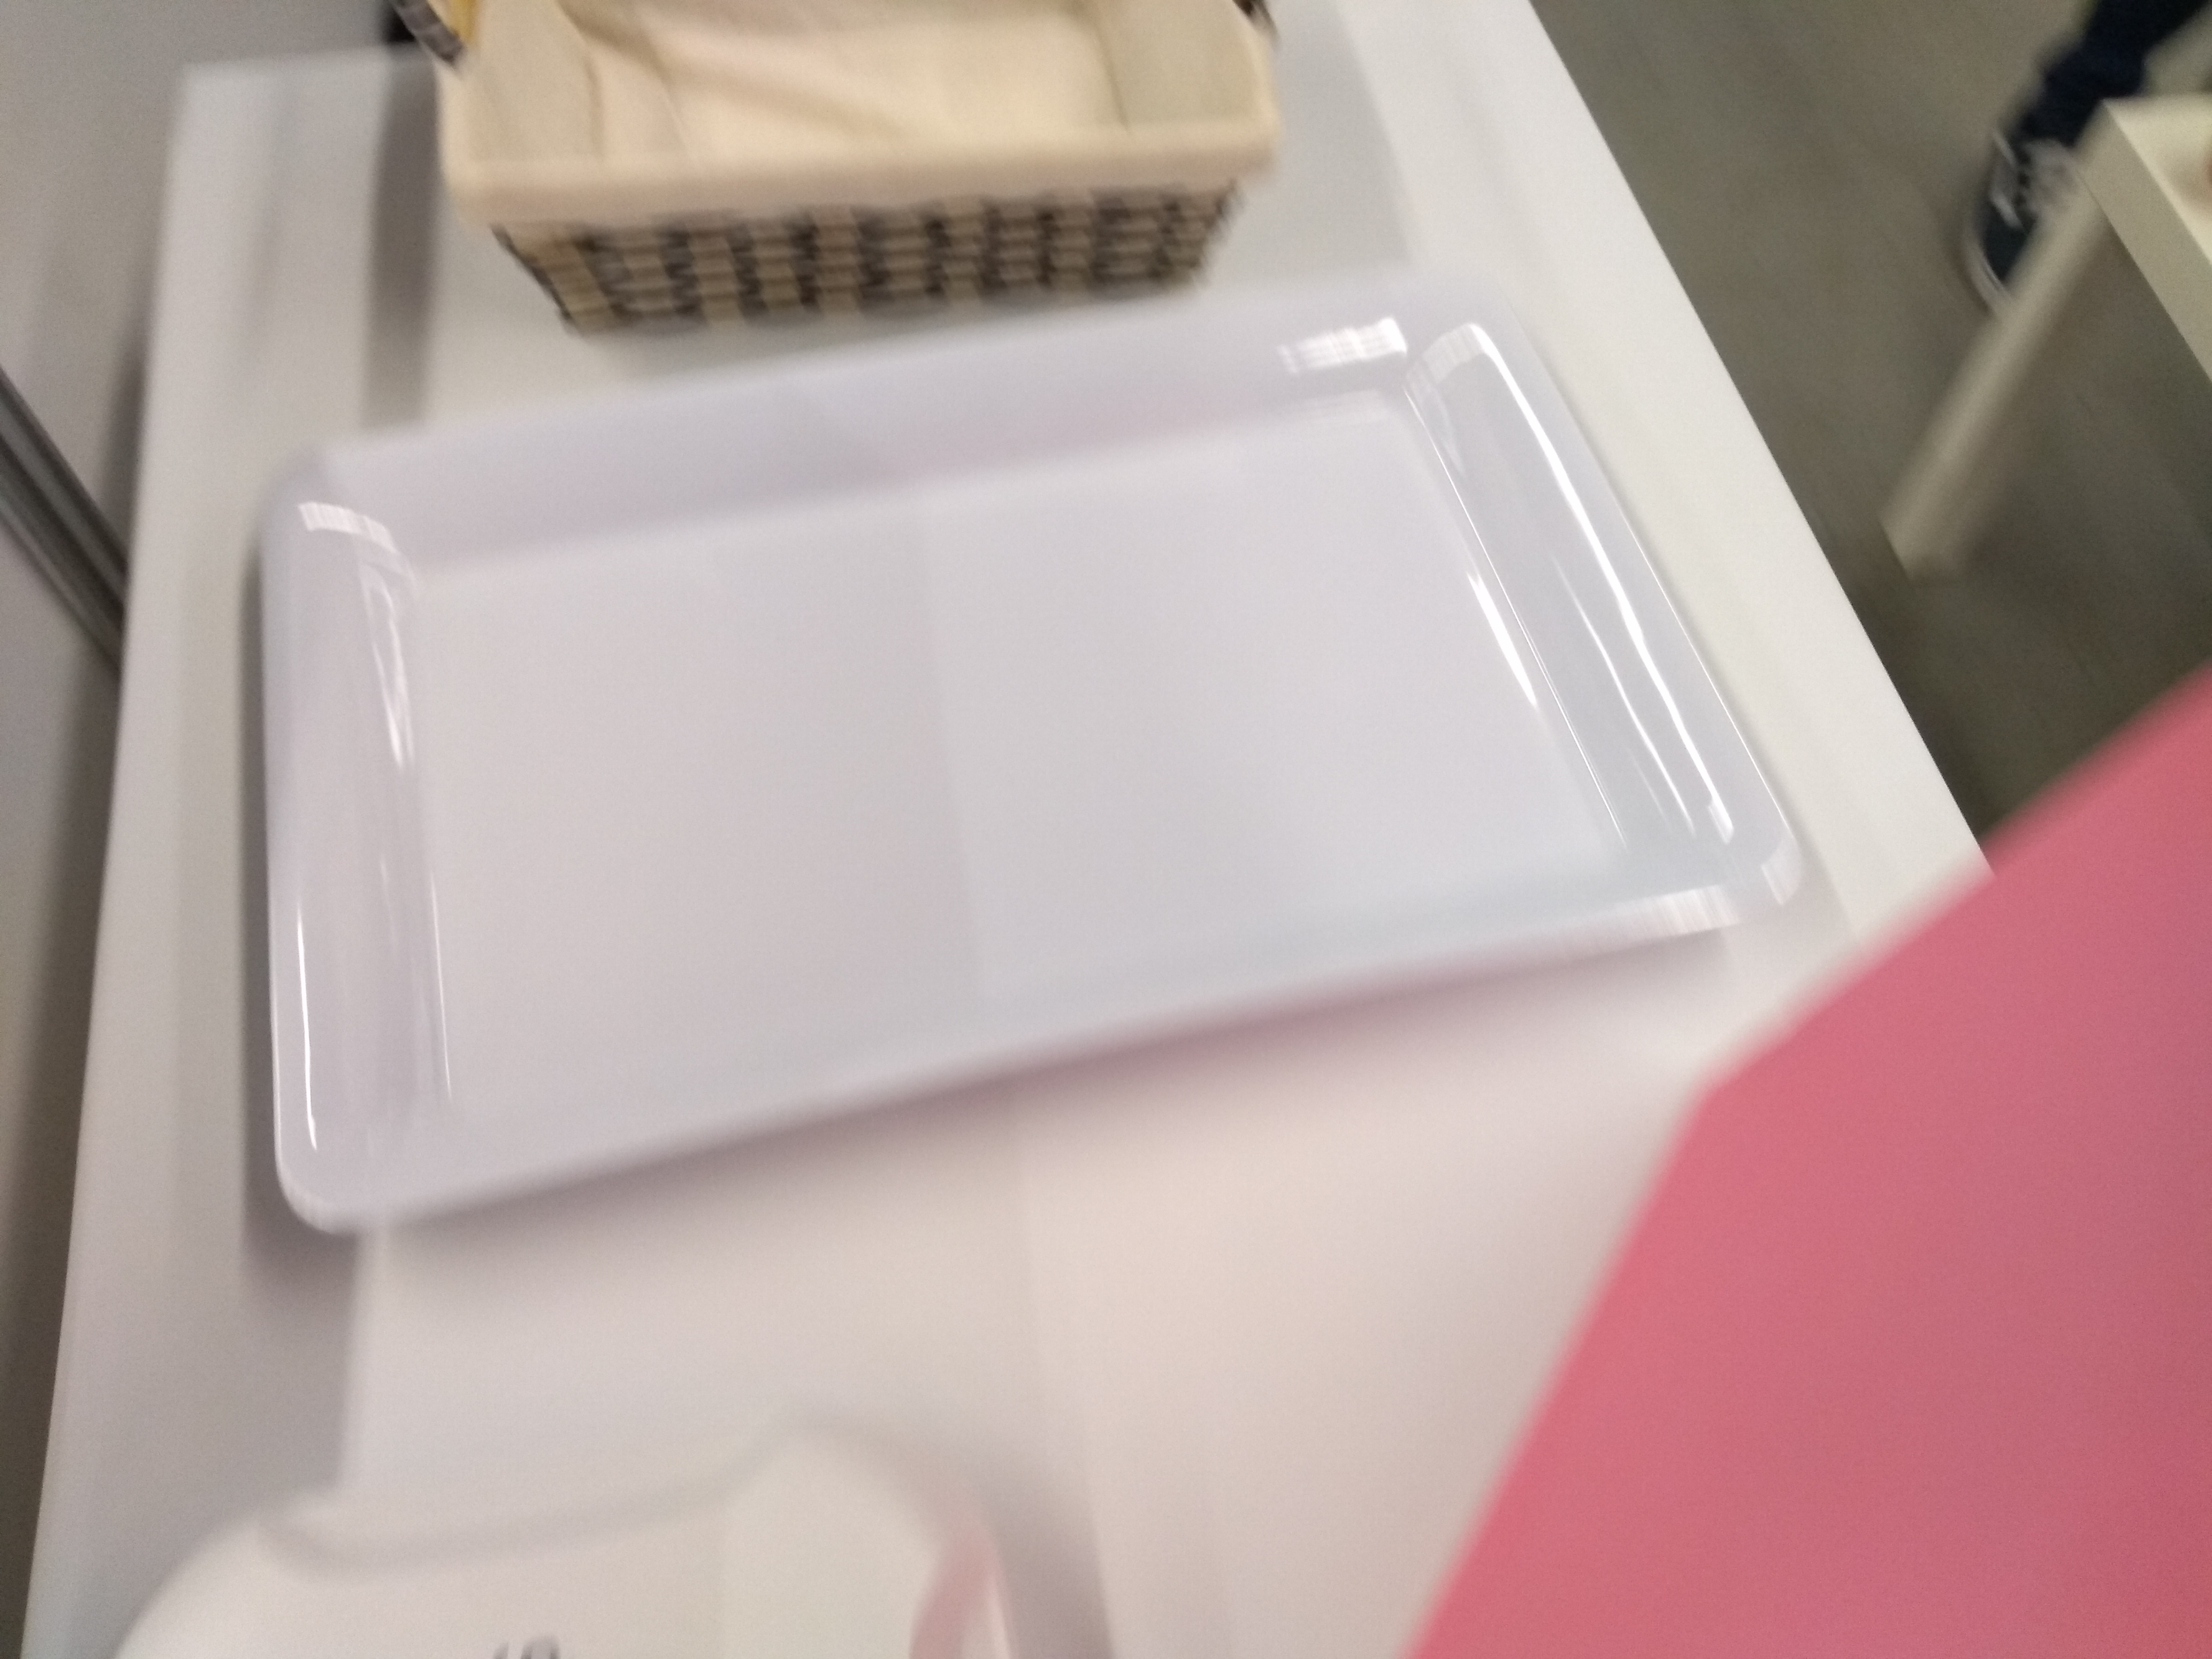basket: (390, 0, 1294, 335)
tray: (232, 282, 1806, 1218)
